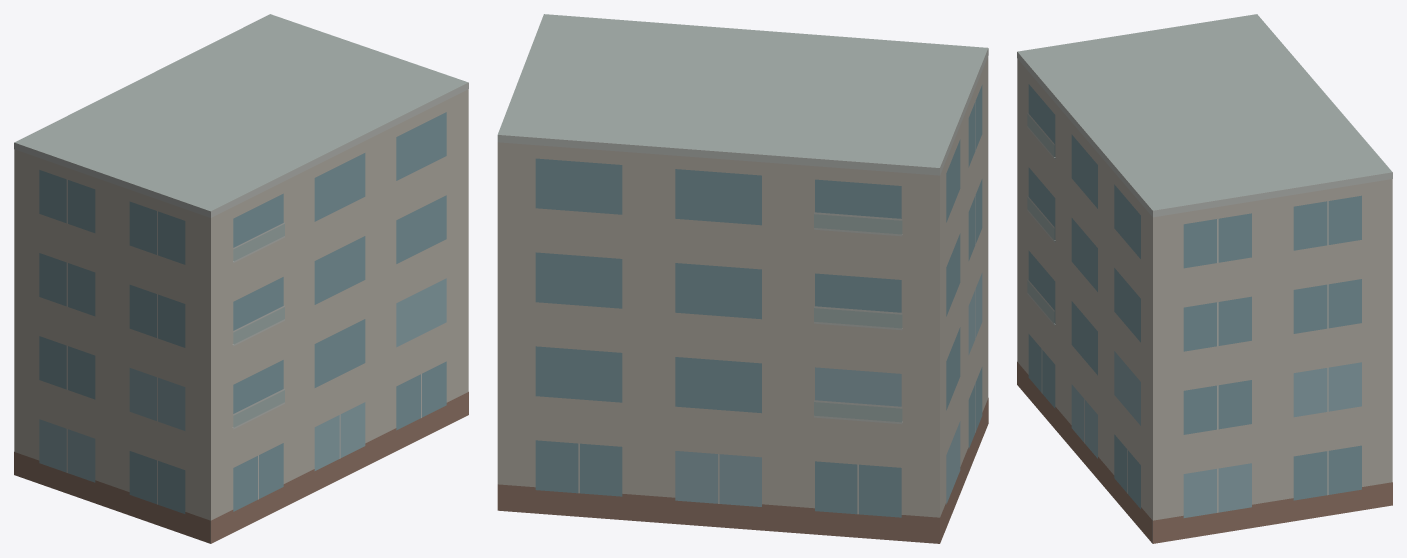
Rendered from survey-upis-32761775.glb.
3 views of the same model, side by side, from view 1: azimuth 30°, elevation 25°; view 2: azimuth 150°, elevation 25°; view 3: azimuth 270°, elevation 25° (orthographic). The views are drawn at different scales.
Parts seen in each view (by area): view 1: survey-upis-32761775.tmp; view 2: survey-upis-32761775.tmp; view 3: survey-upis-32761775.tmp.
Boxes of the visible parts, box(x1,y1,x2,y2) form: survey-upis-32761775.tmp: box(14, 14, 468, 543); survey-upis-32761775.tmp: box(497, 14, 988, 543); survey-upis-32761775.tmp: box(1017, 14, 1392, 543).
Size of the model in its own units: 15.46 by 12.2 by 12.48.
